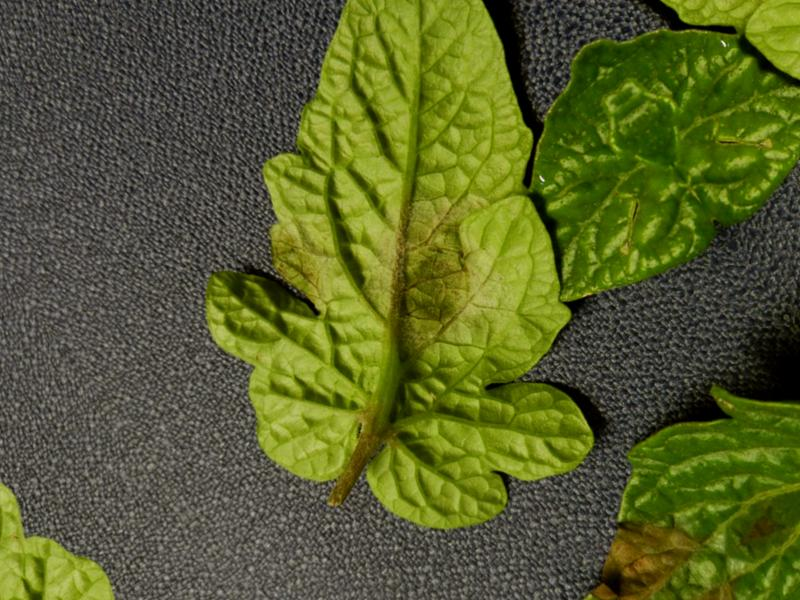Tomato leaf late blight: (6, 0, 767, 600)
